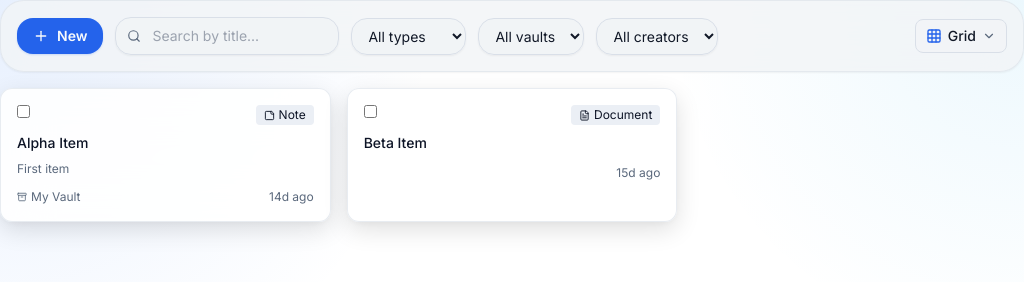
KnowledgeListPage ViewMode rendering › Should_SwitchToCompact_WhenToggledViaDropdown
This screenshot has width=1024, height=282.
Expected: the text "Alpha Item" is shown, [17,134,88,151]
Click the button with aria-label "view mode: grid". click: click(961, 36)
box: [915,19,1007,53]
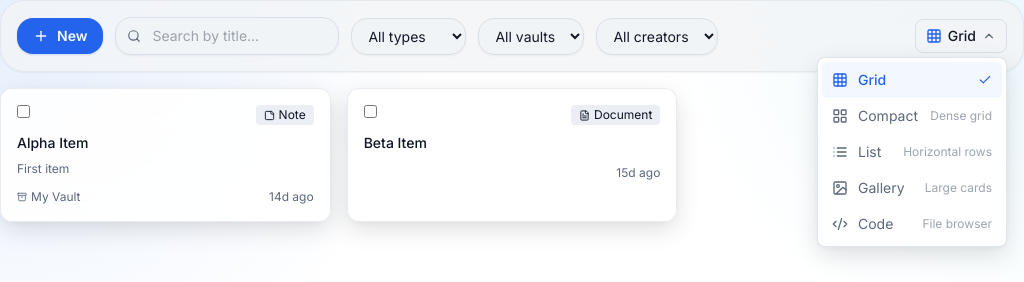
Click the option with test id "view-mode-compact". click: click(912, 116)
box: [822,98,1002,134]
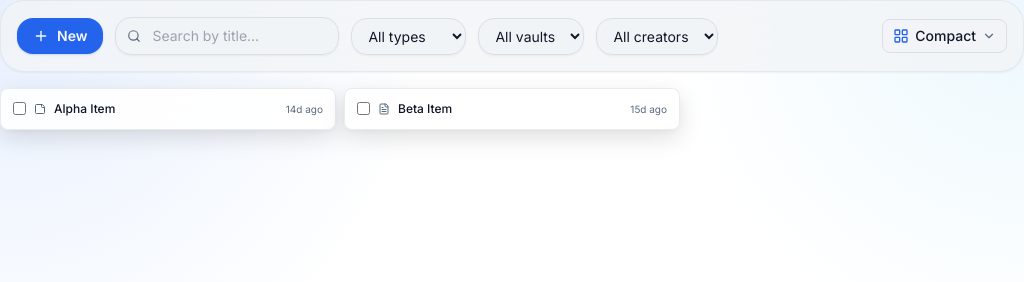
Result: the element with test id "knowledge-list-view-compact" is shown at [0,88,680,130]
